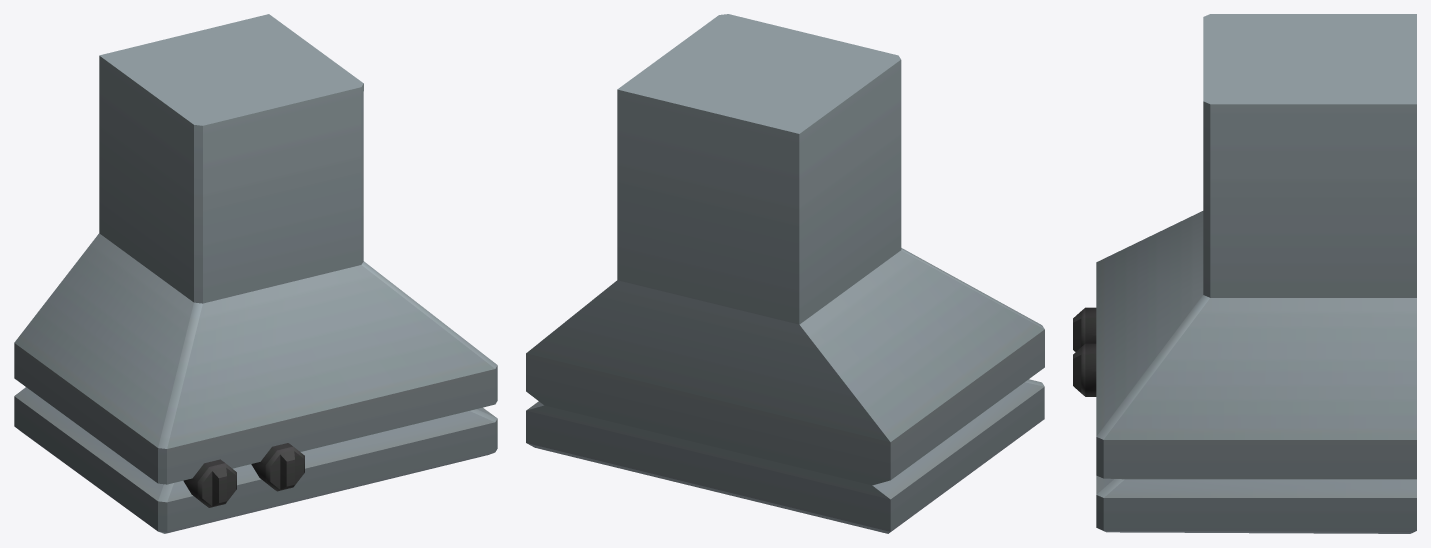
The model's file is extractorhood.glb.
The picture shows the model from 3 angles, left to right: view 1: azimuth 30°, elevation 25°; view 2: azimuth 150°, elevation 25°; view 3: azimuth 270°, elevation 25°; orthographic projection. The views are drawn at different scales.
Visible parts, largest first — view 1: extractorhood3; view 2: extractorhood3; view 3: extractorhood3.
Boxes of the visible parts, x1,y1,x2,y2 form: extractorhood3: [14, 14, 497, 533]; extractorhood3: [526, 14, 1044, 533]; extractorhood3: [1073, 14, 1416, 533].
Bounding box in the file's own units: 2 × 2 × 1.61.
1 material, 1 textured.
